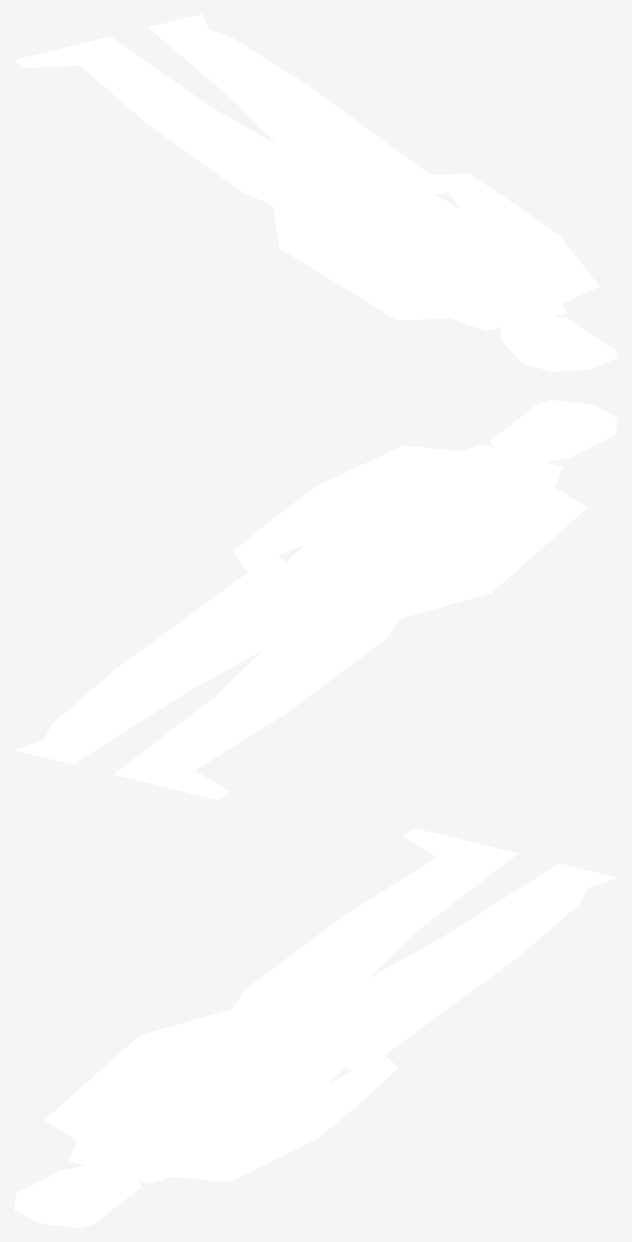
The model's file is fig_bobolan.glb.
3 renders of one model, top to bottom at view 1: azimuth 30°, elevation 25°; view 2: azimuth 150°, elevation 25°; view 3: azimuth 330°, elevation 25°, orthographic. The views are drawn at different scales.
Parts seen in each view (by area): view 1: group_13; view 2: group_13; view 3: group_13.
Boxes of the visible parts, x1=… form: group_13: x1=14, y1=14, x2=617, y2=371; group_13: x1=14, y1=400, x2=617, y2=799; group_13: x1=14, y1=828, x2=617, y2=1227.
Bounding box in the file's own units: 146 × 4 × 513.
Materials: 1 (1 with a texture image).
